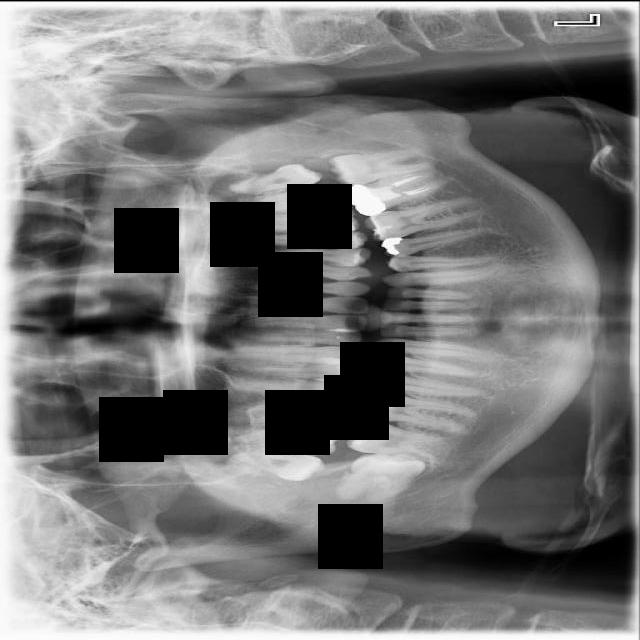3M ESPE Implant: (230, 448, 325, 483)
52: (343, 408, 395, 462), (340, 174, 392, 226), (354, 382, 404, 428), (363, 206, 411, 243), (302, 389, 346, 429), (309, 204, 361, 236), (293, 424, 340, 457), (296, 182, 345, 209), (314, 358, 354, 383), (364, 368, 402, 392), (312, 377, 350, 400), (320, 327, 360, 346), (370, 352, 406, 373), (382, 237, 417, 256)
73: (366, 165, 449, 211), (587, 30, 601, 36)
BioHorizons Implant: (220, 181, 345, 217)
BioLife Implant: (228, 158, 324, 196)
Biomet 3i Implant: (327, 146, 427, 187)
Blue Sky Bio Implant: (341, 165, 450, 220)
Caries: (232, 424, 339, 456)
Implant: (346, 415, 454, 467)
Keystone Dental Implant: (333, 450, 425, 503)
